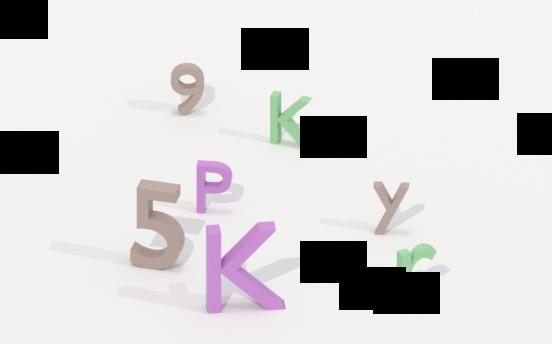5: (129, 175, 187, 273)
9: (170, 61, 207, 121)
R: (396, 241, 439, 306)
Y: (371, 177, 411, 237)
k: (201, 215, 288, 316), (266, 83, 321, 155)
p: (191, 151, 237, 223)
